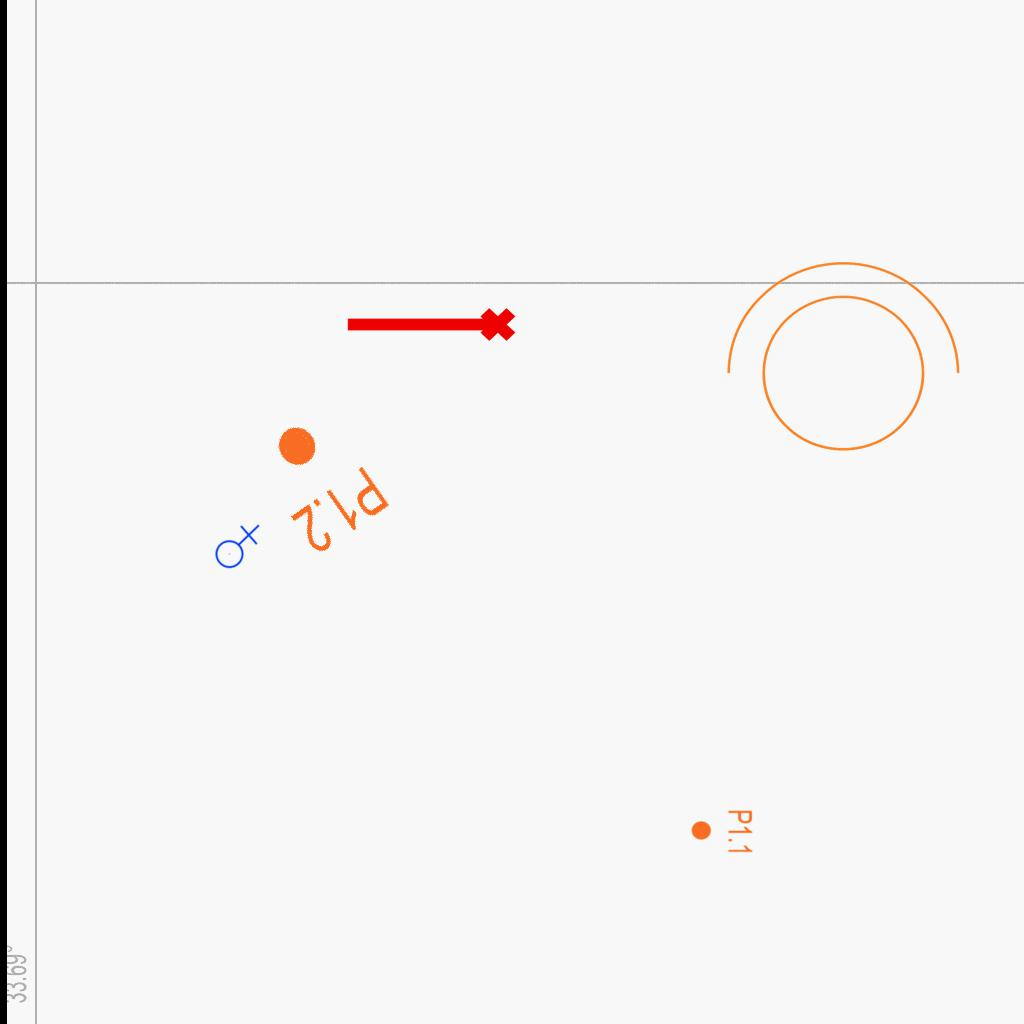ASR_Ansaugoeffnung: (342, 304, 518, 350)
Downlight_LED_Einbauleuchten_Flur: (244, 401, 395, 561), (690, 809, 754, 855)
Elektroanschluss_allgemein_230V_Geraeteanschlussdose_230V: (211, 522, 260, 569)
Scheinwerfer_fuer_Alarmbeleuchtung: (705, 251, 969, 476)
